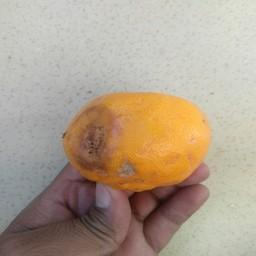Bad_orange: (53, 86, 214, 192)
